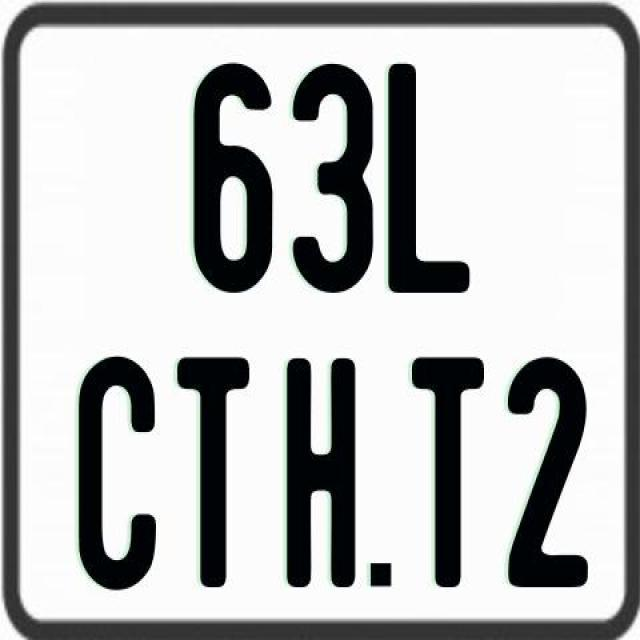2: (508, 353, 588, 588)
3: (290, 61, 374, 290)
6: (191, 58, 276, 292)
C: (78, 354, 164, 594)
H: (284, 357, 359, 592)
L: (384, 61, 472, 300)
T: (173, 356, 250, 594), (408, 352, 483, 589)
